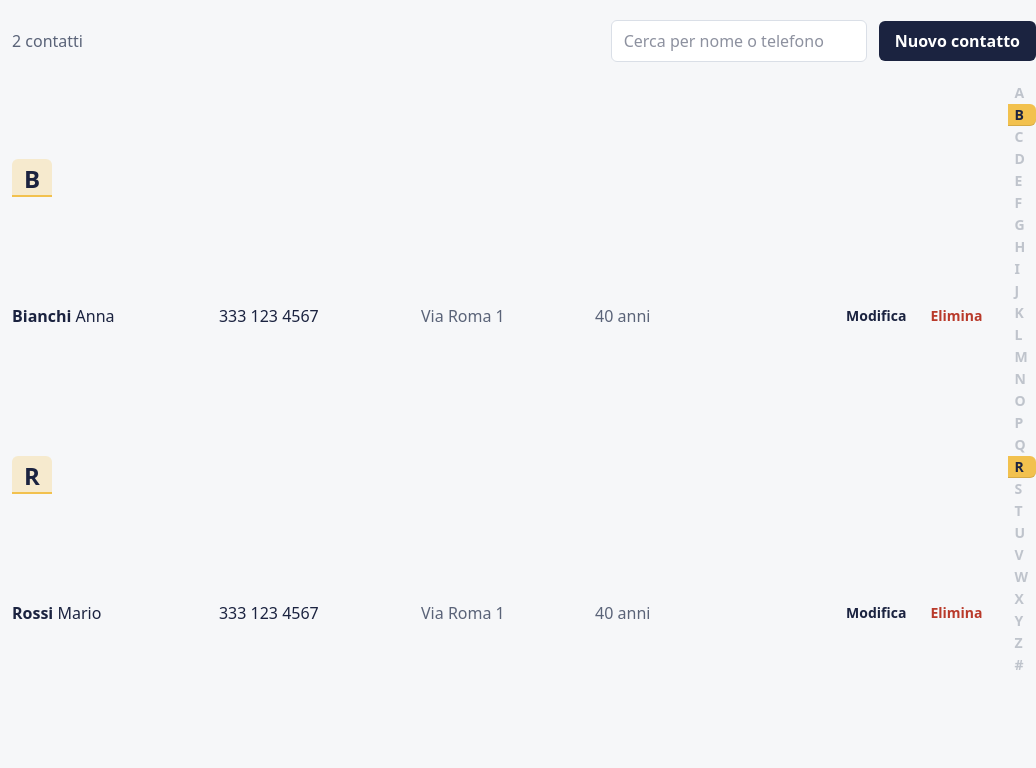
Test case: ListaContatti › filtra con la ricerca
Expected: the text "Rossi" is shown, x1=12 y1=602 x2=53 y2=624
Step 1. Type "anna" into the search field → (739, 41), box x1=611 y1=20 x2=867 y2=62
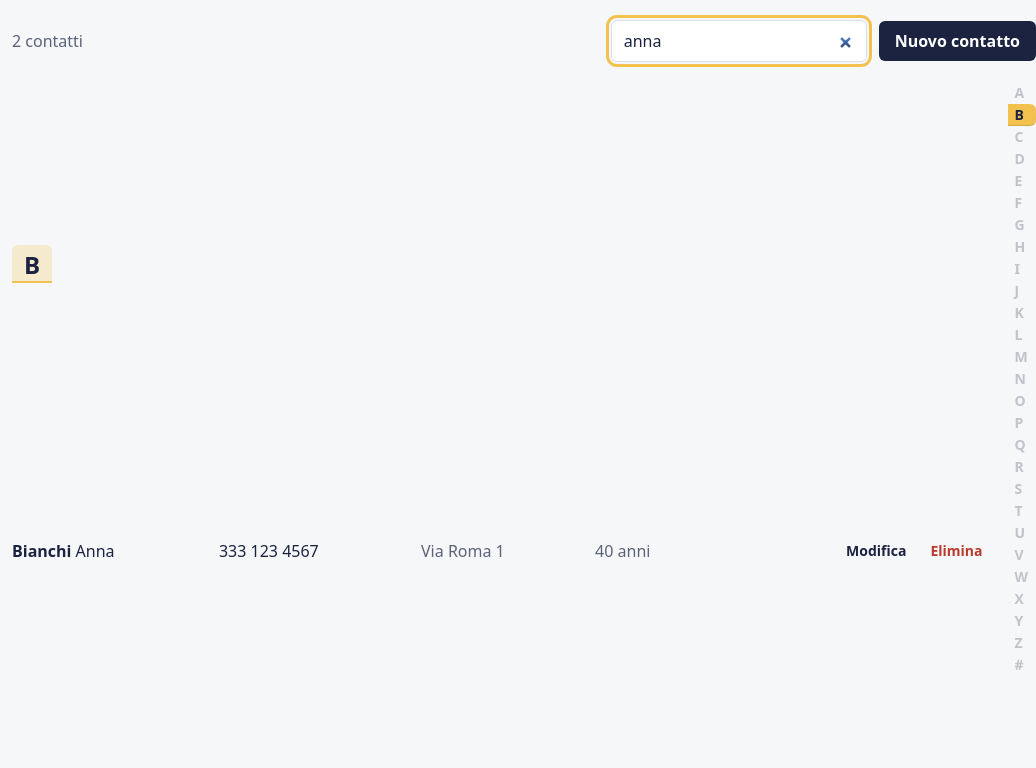
Expected: the text "Bianchi" is shown, x1=12 y1=540 x2=71 y2=562
Expected: the text "Rossi" is gone
